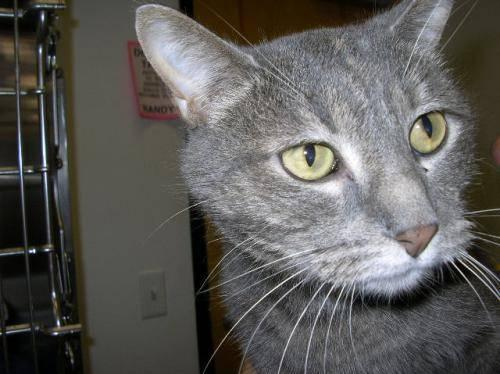cat: (148, 0, 500, 374)
